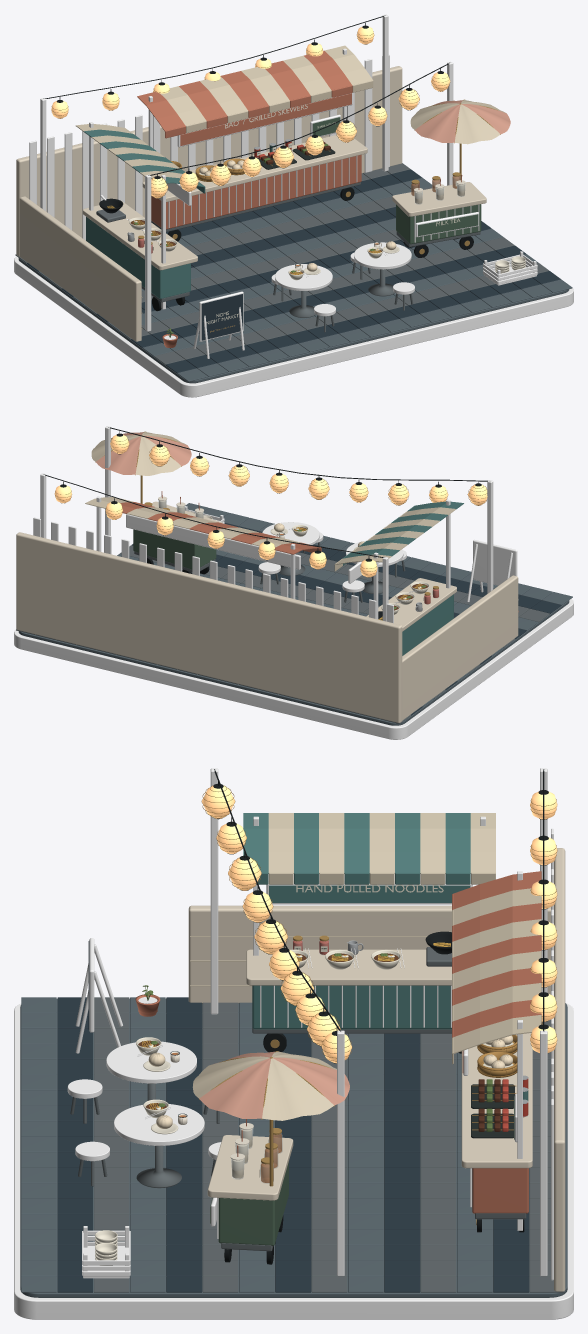
The model's file is night-market-lantern-courtyard.glb.
3 views of the same model, one above another, from view 1: azimuth 30°, elevation 25°; view 2: azimuth 150°, elevation 25°; view 3: azimuth 270°, elevation 25° (orthographic). The views are drawn at different scales.
Visible parts, largest first — view 1: Warm courtyard back wall export, Rounded courtyard stone plinth export, Low courtyard side wall export, Shared bites cart painted panel export, Noodle cart painted panel export, Noodle cart stone service top export, Shared bites cart stone service top export, Continuous blue slate paving export, Shared bites cart fascia painted face export, Tea cart stone service top export, Tea cart painted panel export, Night courtyard sign painted face export (+30 smaller); view 2: Warm courtyard back wall export, Rounded courtyard stone plinth export, Low courtyard side wall export, Continuous blue slate paving export, Shared bites cart fascia walnut frame export, Tea cart painted panel export, Noodle cart stone service top export, Night courtyard sign walnut frame export, Noodle cart painted panel export, Parasol sewn fabric panel.001 export, Parasol sewn fabric panel.002 export, Front lantern pole export (+7 smaller); view 3: Rounded courtyard stone plinth export, Low courtyard side wall export, Continuous blue slate paving export, Noodle cart painted panel export, Warm courtyard back wall export, Noodle cart stone service top export, Shared bites cart stone service top export, Tea cart stone service top export, Noodle cart fascia painted face export, Tea cart painted panel export, Parasol sewn fabric panel export, Shared bites cart painted panel export (+40 smaller).
Part boxes in pixels (x1=…): Warm courtyard back wall export: x1=16, y1=66, x2=402, y2=256; Rounded courtyard stone plinth export: x1=14, y1=256, x2=573, y2=397; Low courtyard side wall export: x1=19, y1=196, x2=141, y2=341; Shared bites cart painted panel export: x1=151, y1=154, x2=361, y2=229; Noodle cart painted panel export: x1=86, y1=217, x2=190, y2=299; Noodle cart stone service top export: x1=82, y1=200, x2=197, y2=270; Shared bites cart stone service top export: x1=142, y1=135, x2=367, y2=202; Continuous blue slate paving export: x1=18, y1=258, x2=569, y2=383; Shared bites cart fascia painted face export: x1=180, y1=93, x2=351, y2=145; Tea cart stone service top export: x1=392, y1=182, x2=486, y2=216; Tea cart painted panel export: x1=396, y1=204, x2=481, y2=244; Night courtyard sign painted face export: x1=201, y1=294, x2=242, y2=340; Warm courtyard back wall export: x1=16, y1=532, x2=402, y2=722; Rounded courtyard stone plinth export: x1=14, y1=599, x2=573, y2=739; Low courtyard side wall export: x1=402, y1=575, x2=518, y2=720; Continuous blue slate paving export: x1=18, y1=600, x2=569, y2=725; Shared bites cart fascia walnut frame export: x1=126, y1=514, x2=300, y2=569; Tea cart painted panel export: x1=133, y1=529, x2=216, y2=569; Noodle cart stone service top export: x1=366, y1=578, x2=456, y2=631; Night courtyard sign walnut frame export: x1=473, y1=539, x2=517, y2=585; Noodle cart painted panel export: x1=402, y1=594, x2=453, y2=655; Parasol sewn fabric panel.001 export: x1=96, y1=436, x2=141, y2=474; Parasol sewn fabric panel.002 export: x1=135, y1=436, x2=181, y2=475; Front lantern pole export: x1=487, y1=480, x2=493, y2=593; Rounded courtyard stone plinth export: x1=14, y1=1003, x2=573, y2=1319; Low courtyard side wall export: x1=188, y1=905, x2=550, y2=1003; Continuous blue slate paving export: x1=20, y1=998, x2=567, y2=1297; Noodle cart painted panel export: x1=252, y1=985, x2=451, y2=1029; Warm courtyard back wall export: x1=554, y1=848, x2=565, y2=1291; Noodle cart stone service top export: x1=246, y1=949, x2=451, y2=985; Shared bites cart stone service top export: x1=461, y1=1033, x2=532, y2=1168; Tea cart stone service top export: x1=207, y1=1135, x2=293, y2=1200; Noodle cart fascia painted face export: x1=269, y1=885, x2=470, y2=902; Tea cart painted panel export: x1=218, y1=1161, x2=288, y2=1245; Parasol sewn fabric panel export: x1=262, y1=1058, x2=333, y2=1120; Shared bites cart painted panel export: x1=472, y1=1168, x2=528, y2=1213.
Size of the model in its own units: 9.56 by 3.93 by 7.4.
